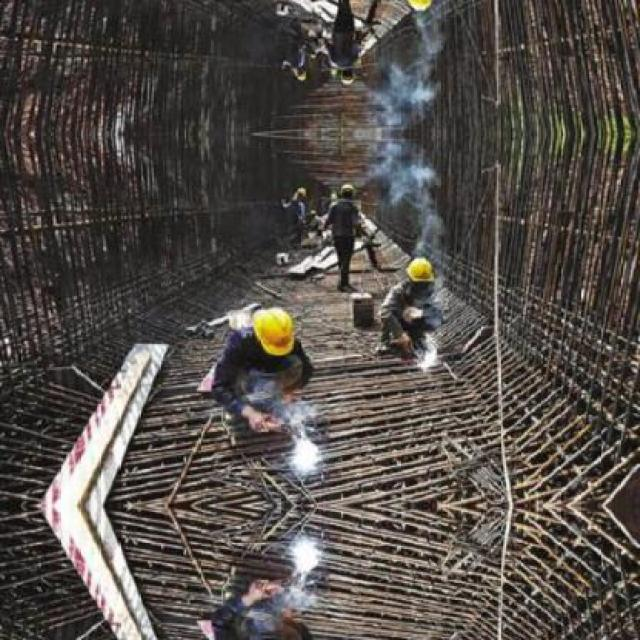helmet: (252, 304, 296, 355), (404, 254, 439, 293), (403, 0, 440, 14), (340, 181, 355, 203), (340, 65, 355, 86)
